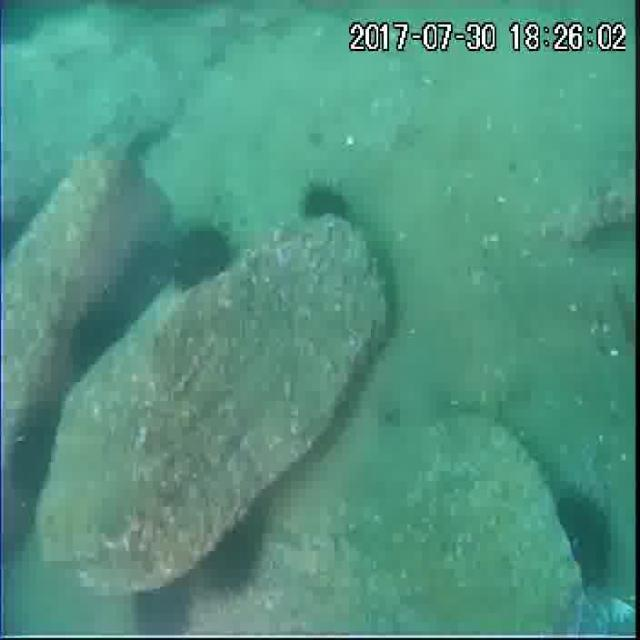echinus: (200, 502, 266, 597), (554, 488, 614, 591), (4, 398, 64, 497), (172, 220, 236, 293), (128, 572, 195, 640), (67, 307, 126, 369), (303, 180, 352, 229)
